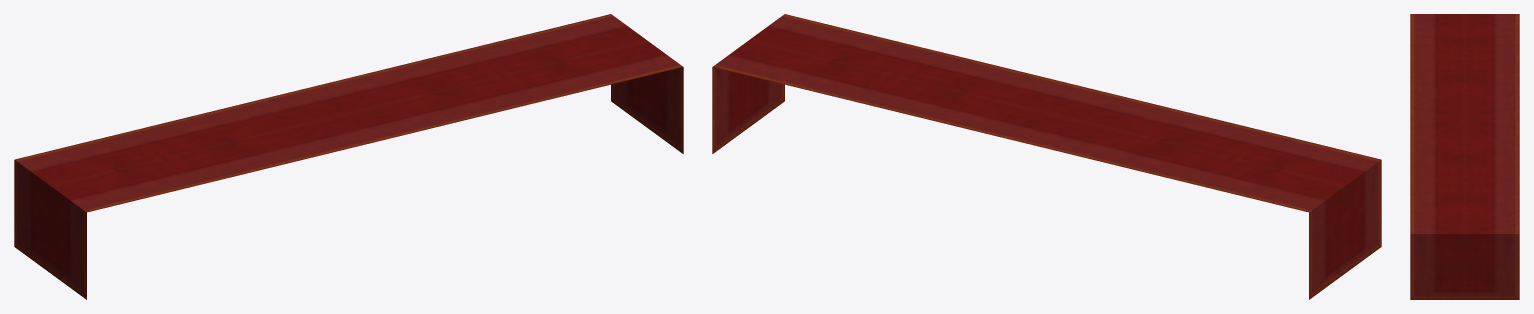
File: Cover_1E.fbx
3 renders of one model, left to right at view 1: azimuth 30°, elevation 25°; view 2: azimuth 150°, elevation 25°; view 3: azimuth 270°, elevation 25°, orthographic. The views are drawn at different scales.
Parts seen in each view (by area): view 1: polySurface7522; view 2: polySurface7522; view 3: polySurface7522.
Part boxes in pixels (left/top/right/bottom): polySurface7522: left=14, top=14, right=683, bottom=299; polySurface7522: left=712, top=14, right=1381, bottom=299; polySurface7522: left=1410, top=14, right=1519, bottom=299.
Size of the model in its own units: 5.71 by 0.8001 by 1.2.
